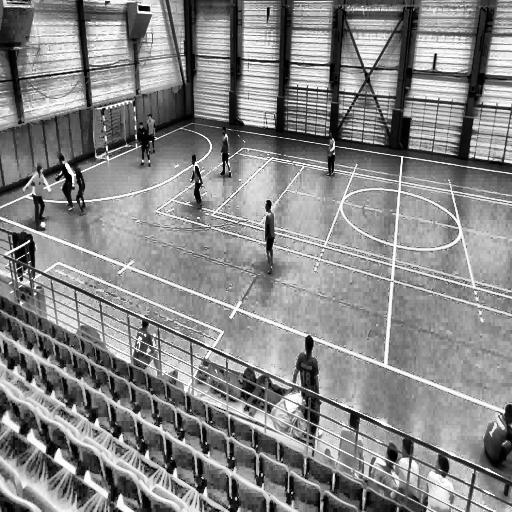ball: (38, 217, 47, 232)
player: (24, 163, 51, 227), (54, 154, 76, 210), (262, 198, 276, 274), (73, 157, 88, 219), (190, 154, 204, 210), (219, 126, 232, 179), (138, 120, 151, 169), (326, 129, 336, 178)
